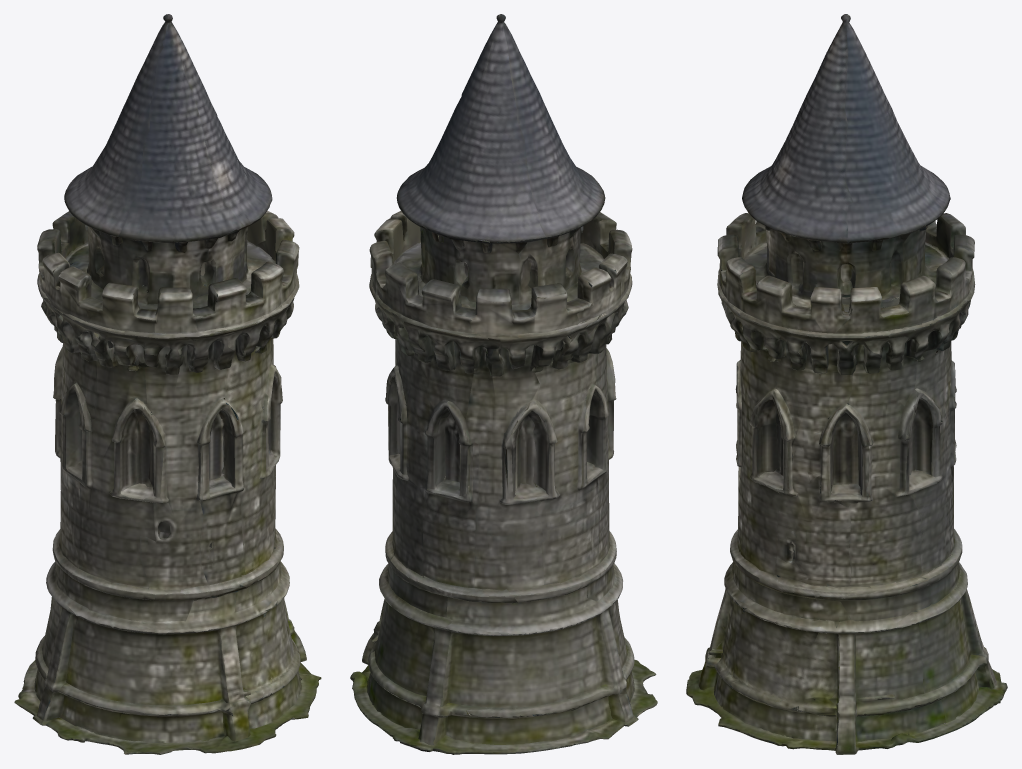
The model's file is academy-tower.glb.
3 views of the same model, side by side, from view 1: azimuth 30°, elevation 25°; view 2: azimuth 150°, elevation 25°; view 3: azimuth 270°, elevation 25° (orthographic).
Parts seen in each view (by area): view 1: academy-tower; view 2: academy-tower; view 3: academy-tower.
Boxes of the visible parts, <box> form: academy-tower: <box>14,14,321,754</box>; academy-tower: <box>350,14,657,754</box>; academy-tower: <box>686,14,1007,754</box>.
Bounding box in the file's own units: 7.41 × 18 × 7.76.
Materials: 1 (1 with a texture image).
